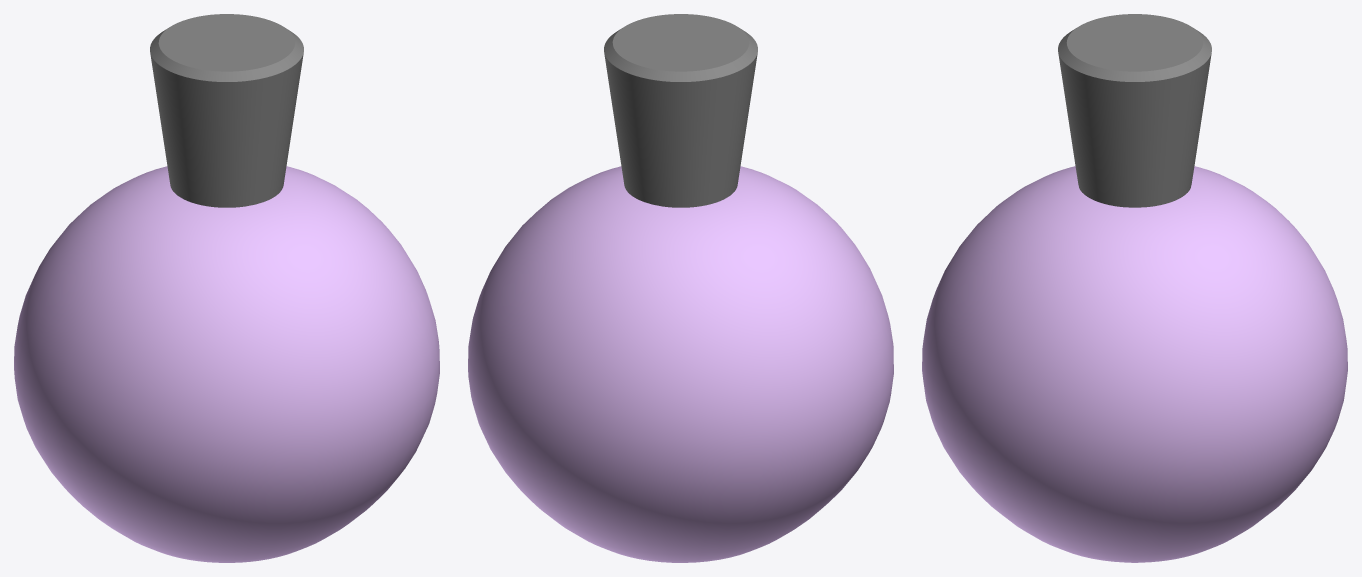
Rendered from 961_perfume_bottle.glb.
3 renders of one model, left to right at view 1: azimuth 30°, elevation 25°; view 2: azimuth 150°, elevation 25°; view 3: azimuth 270°, elevation 25°, orthographic.
Parts seen in each view (by area): view 1: Body; view 2: Body; view 3: Body.
Boxes of the visible parts, bbox=[...] form: Body: bbox=[14, 14, 439, 562]; Body: bbox=[468, 14, 893, 562]; Body: bbox=[922, 14, 1347, 562].
Size of the model in its own units: 0.0797 by 0.1004 by 0.0797.
